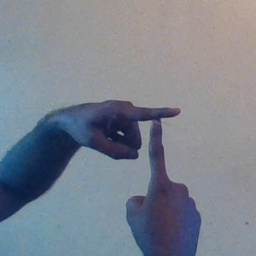T: (92, 90, 193, 203)
